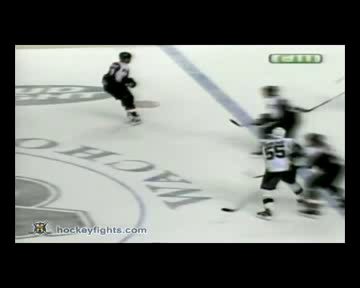normal: (222, 76, 349, 222)
